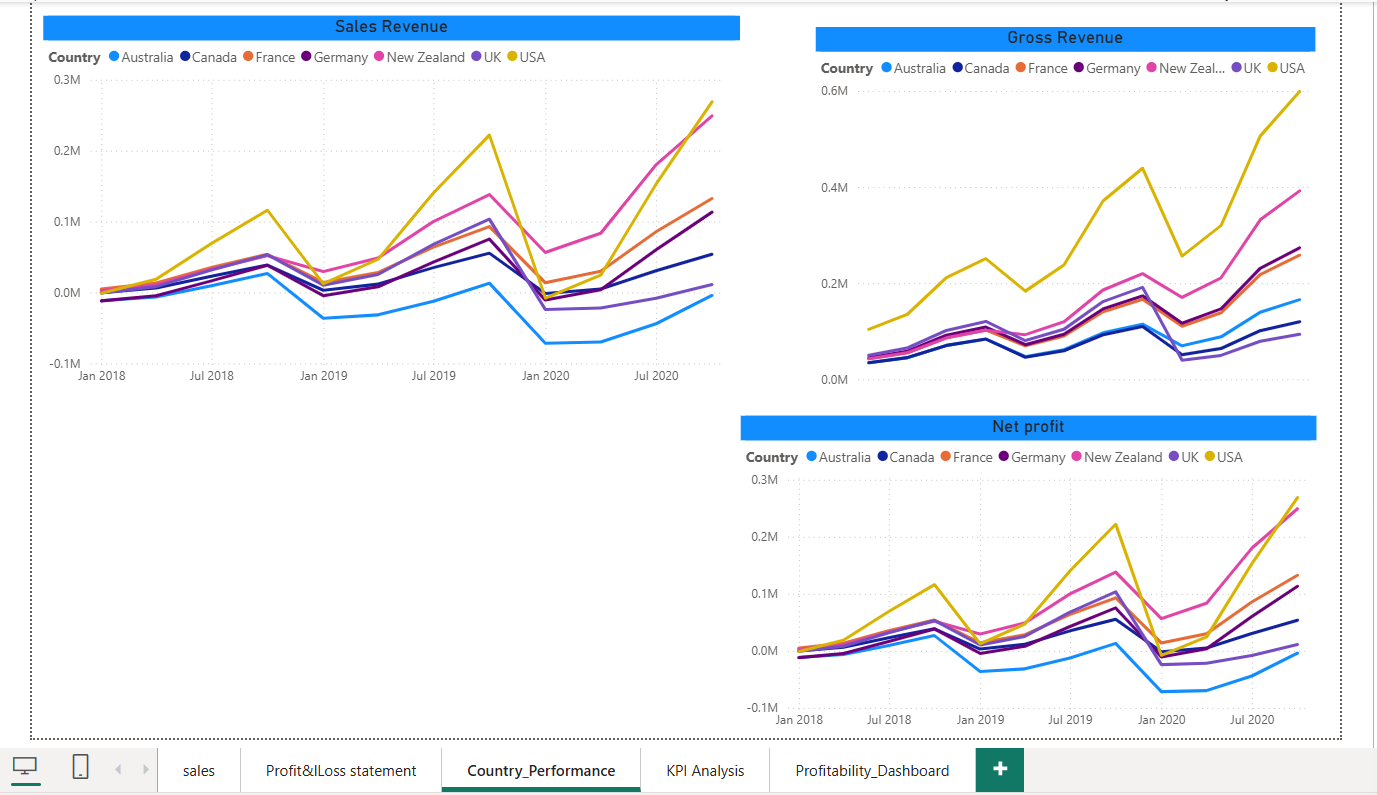

This screenshot's page, from the dashboard's own definition file:
{"tool":"powerbi","page":{"name":"Country_Performance","canvas":[1280,720],"ordinal":2},"visuals":[{"type":"lineChart","title":"Gross  Revenue","fields":{"Y":["Sum(tbl_GL.Amount)"],"Category":["tbl_Calendar.Date.Variation.Date Hierarchy.Year","tbl_Calendar.Date.Variation.Date Hierarchy.Quarter","tbl_Calendar.Date.Variation.Date Hierarchy.Month","tbl_Calendar.Date.Variation.Date Hierarchy.Day"],"Series":["tbl_territory.Country"]},"box":[767.1,24.3,488.6,358.6],"z":0},{"type":"lineChart","title":"Net profit","fields":{"Y":["Sum(tbl_GL.Amount)"],"Category":["tbl_Calendar.Date.Variation.Date Hierarchy.Year","tbl_Calendar.Date.Variation.Date Hierarchy.Quarter","tbl_Calendar.Date.Variation.Date Hierarchy.Month","tbl_Calendar.Date.Variation.Date Hierarchy.Day"],"Series":["tbl_territory.Country"]},"box":[692.9,404.3,562.9,315.7],"z":1000},{"type":"lineChart","title":"Sales Revenue","fields":{"Category":["tbl_Calendar.Date.Variation.Date Hierarchy.Year","tbl_Calendar.Date.Variation.Date Hierarchy.Quarter","tbl_Calendar.Date.Variation.Date Hierarchy.Month","tbl_Calendar.Date.Variation.Date Hierarchy.Day"],"Y":["Sum(tbl_GL.Amount)"],"Series":["tbl_territory.Country"]},"box":[11.4,12.9,681.4,370],"z":2000}]}

Visuals, with their boxes on the page's 1280x720 design canvas (x1, y1, x2, y2). These are canvas units, not pixel positions in the 1377x795 screenshot, which may show the page scaled, cropped or inside an application window:
"Gross  Revenue" lineChart: box=[767, 24, 1256, 383]
"Net profit" lineChart: box=[693, 404, 1256, 720]
"Sales Revenue" lineChart: box=[11, 13, 693, 383]
